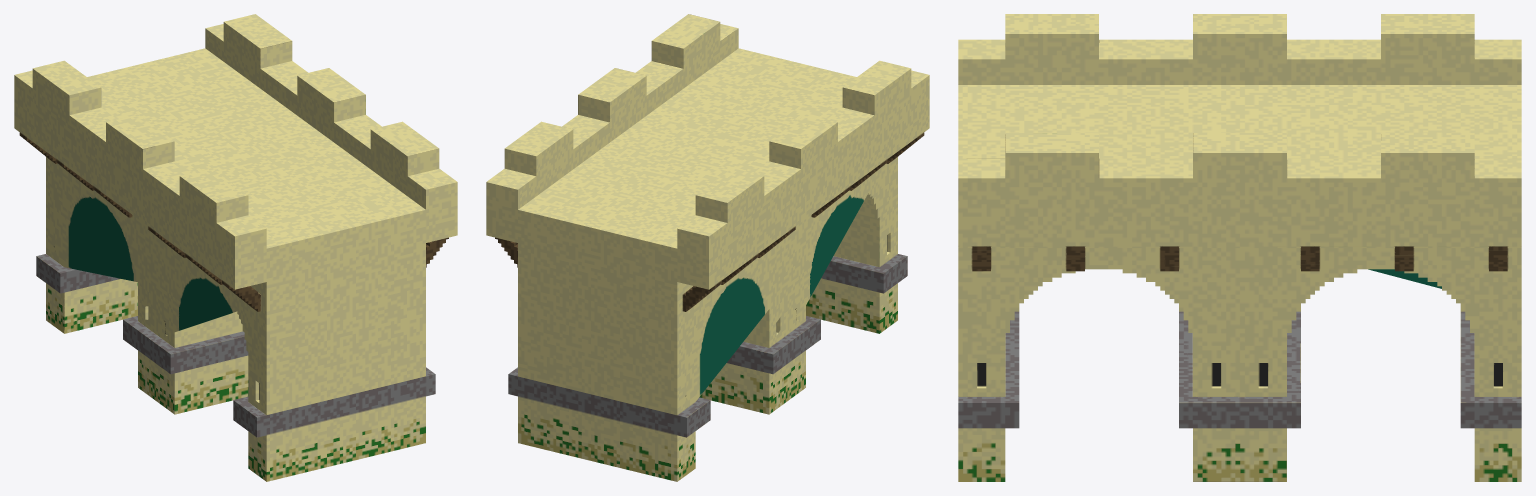
File: Bridge_Medium_Body.obj
3 renders of one model, left to right at view 1: azimuth 30°, elevation 25°; view 2: azimuth 150°, elevation 25°; view 3: azimuth 270°, elevation 25°, orthographic. The views are drawn at different scales.
Parts seen in each view (by area): view 1: Bridge_Medium_Body_Medieval_Assets-2.001; view 2: Bridge_Medium_Body_Medieval_Assets-2.001; view 3: Bridge_Medium_Body_Medieval_Assets-2.001.
Boxes of the visible parts, x1,y1,x2,y2 form: Bridge_Medium_Body_Medieval_Assets-2.001: [14, 14, 457, 481]; Bridge_Medium_Body_Medieval_Assets-2.001: [486, 14, 929, 481]; Bridge_Medium_Body_Medieval_Assets-2.001: [958, 14, 1521, 481].
Bounding box in the file's own units: 7 × 8.2 × 12.
1 material, 1 textured.
